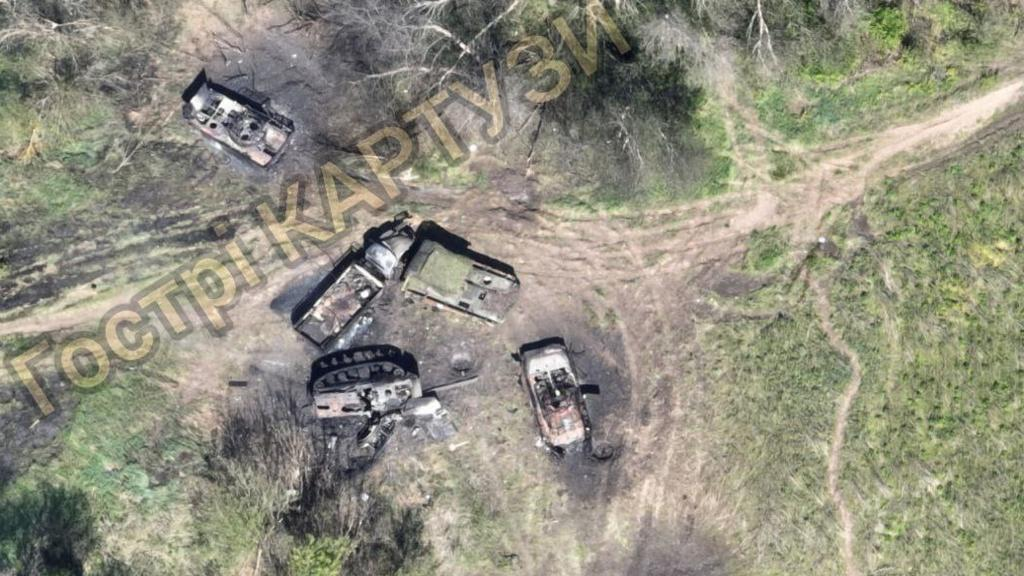APC-IFV: (404, 243, 521, 327), (183, 82, 292, 168), (515, 341, 591, 449)
TRUCK: (294, 222, 413, 355)
